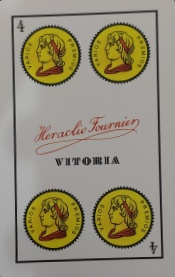4o: (10, 9, 159, 37)
